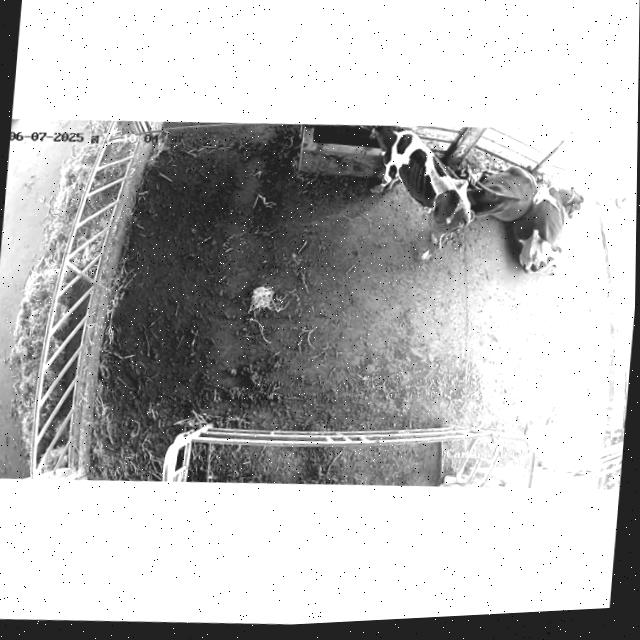drink: (337, 120, 420, 175)
lay: (515, 168, 595, 289), (458, 154, 541, 229)
